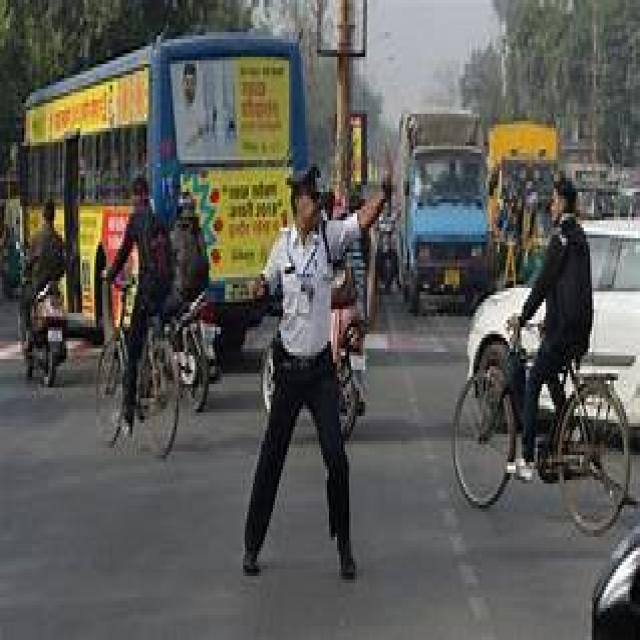Bus: (25, 40, 307, 327)
Car: (580, 222, 640, 429), (467, 289, 530, 375), (521, 303, 543, 356), (539, 388, 553, 411)
Truck: (403, 111, 489, 310)
